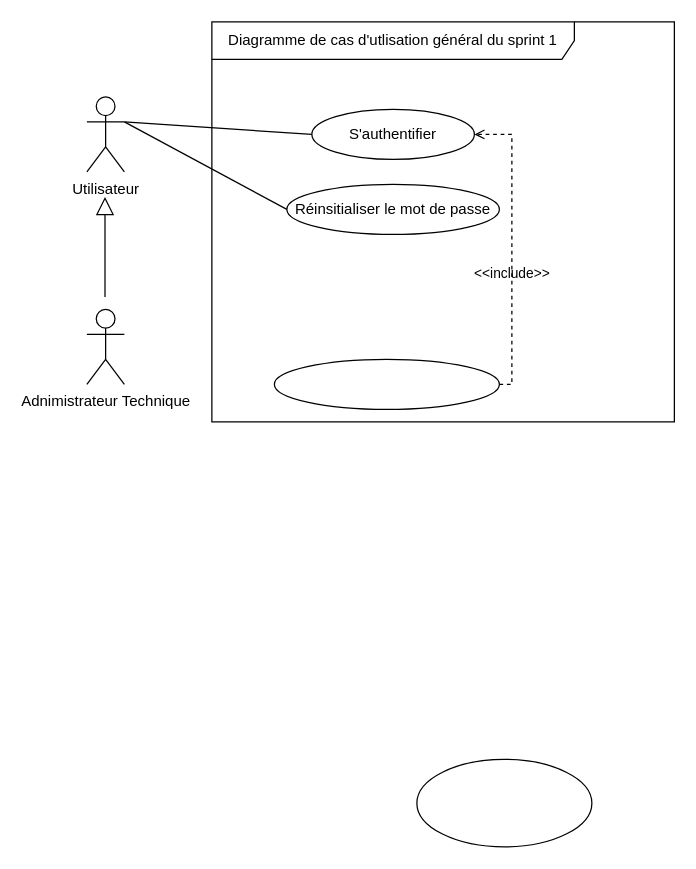
The diagram is 696 pixels wide and 869 high, and some of its shapes have lost their labels. The centre of each missing label's shape, as x and y in pixels:
"Gérer les utilisateurs" goes at (386,383).
"Use Case" goes at (504,802).
